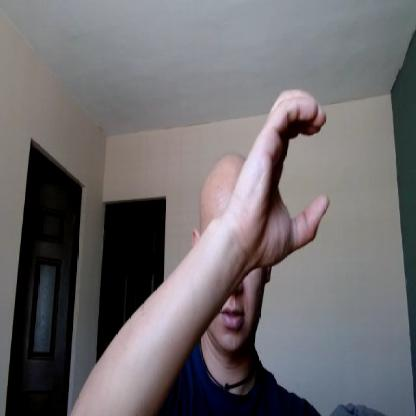C: (234, 89, 331, 266)
